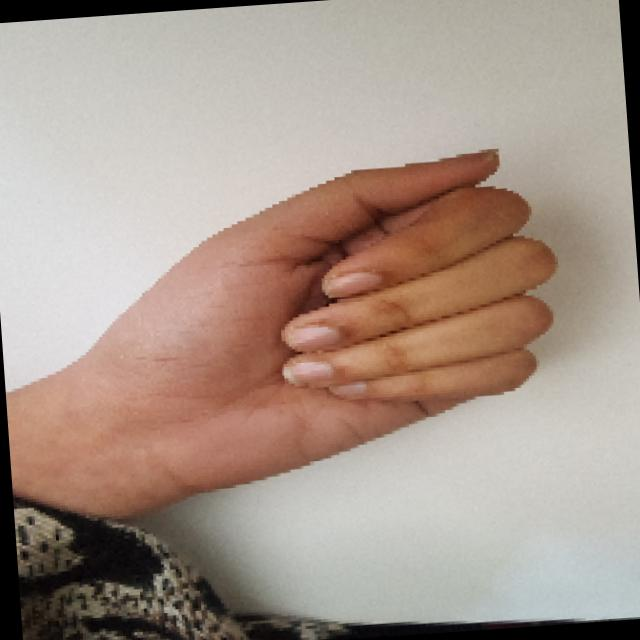Nail: (282, 321, 340, 350), (320, 270, 381, 297), (283, 360, 332, 382), (329, 380, 365, 395)
